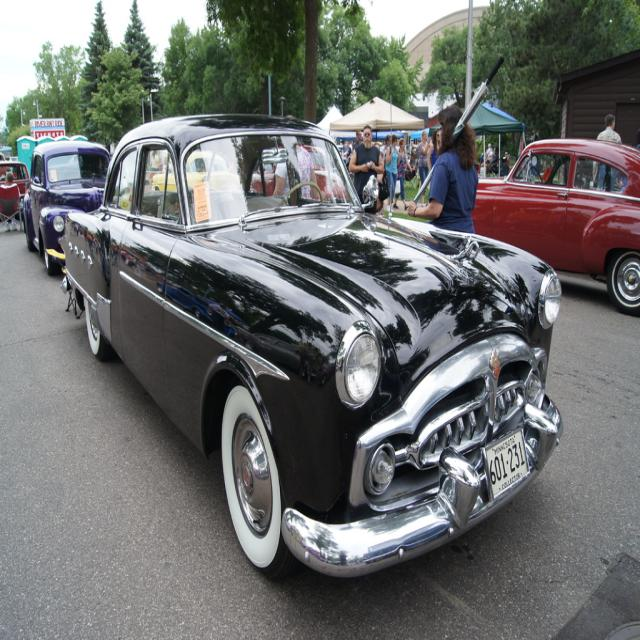car: (56, 125, 566, 586)
